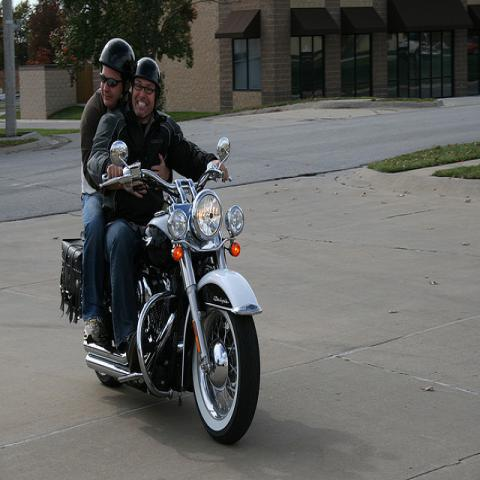motorcycle: (54, 137, 260, 442)
